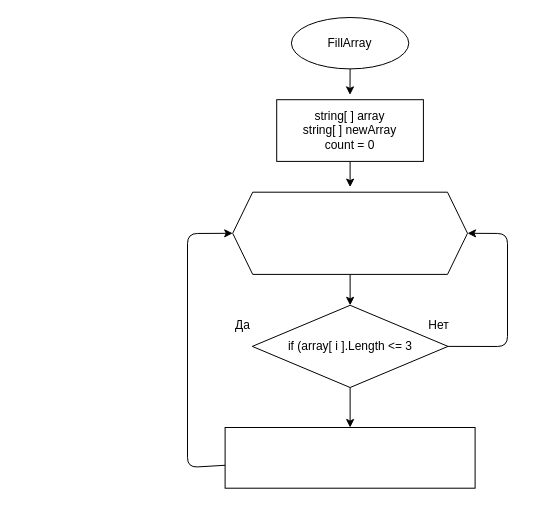
The diagram is 533 pixels wide and 506 high, and some of its shapes have lost their labels. The box of each missing label's shape, as (x1, y1, x2, y2) in pixels:
for (int i = 0; i < array.Length; i++): (232, 191, 468, 274)
newArray[count] == array [i] count++: (224, 426, 475, 488)
